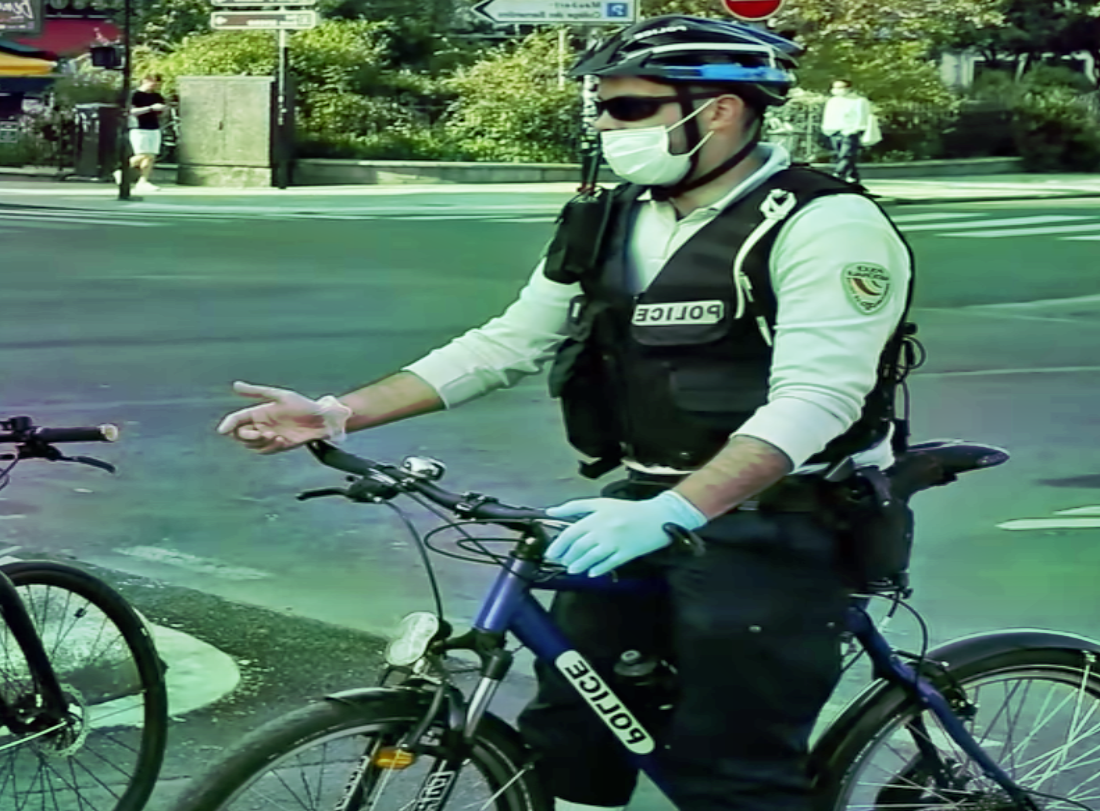mask_weared_incorrect: (583, 22, 783, 196)
